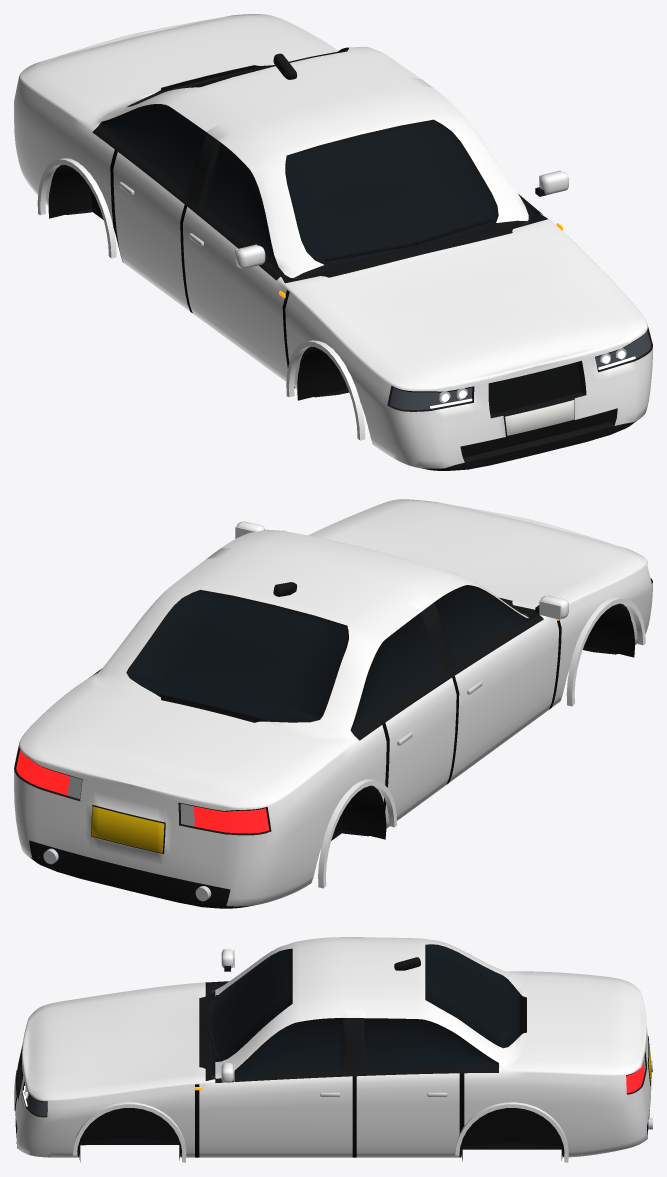
Rendered from saloon.glb.
3 renders of one model, top to bottom at view 1: azimuth 30°, elevation 25°; view 2: azimuth 150°, elevation 25°; view 3: azimuth 270°, elevation 25°, orthographic. The views are drawn at different scales.
Parts seen in each view (by area): view 1: saloon; view 2: saloon; view 3: saloon.
Boxes of the visible parts, x1,y1,x2,y2 form: saloon: (14, 14, 652, 470); saloon: (14, 499, 652, 908); saloon: (14, 937, 652, 1162).
Size of the model in its own units: 2.18 by 1.32 by 4.76.
